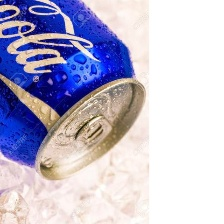can: (0, 0, 149, 183)
